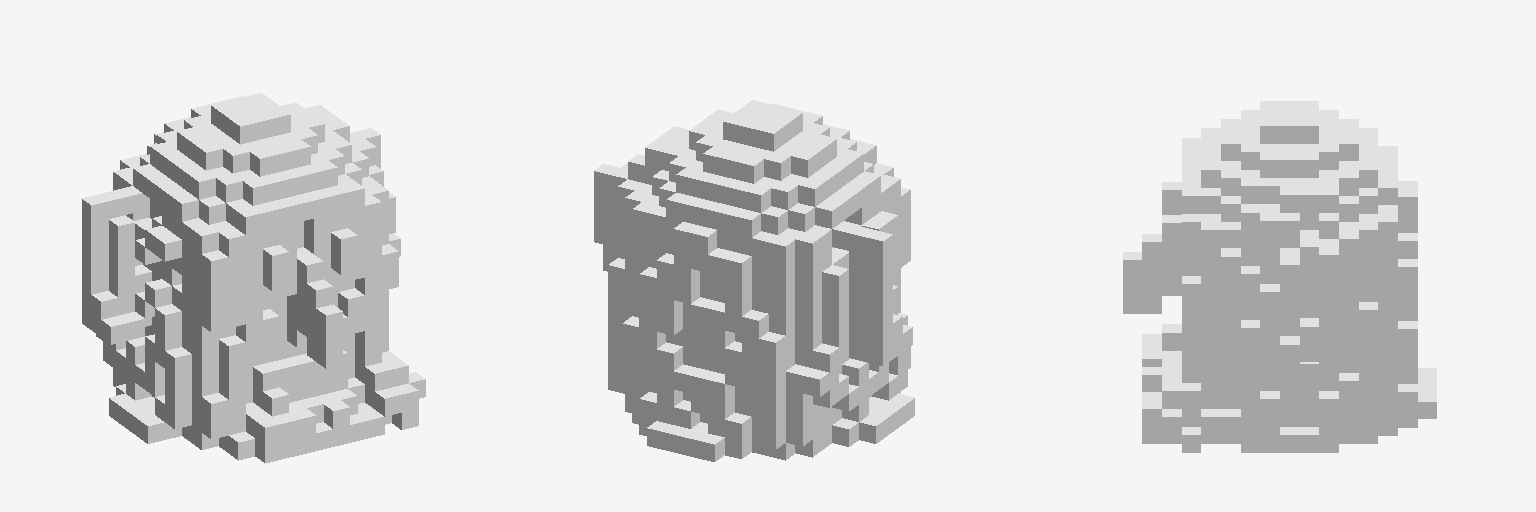
File: ghost_head.vox.obj
The picture shows the model from 3 angles: view 1: azimuth 30°, elevation 25°; view 2: azimuth 150°, elevation 25°; view 3: azimuth 270°, elevation 25°; orthographic projection.
Parts seen in each view (by area): view 1: object 1; view 2: object 1; view 3: object 1.
Boxes of the visible parts, x1,y1,x2,y2 form: object 1: [82, 93, 425, 463]; object 1: [594, 100, 914, 461]; object 1: [1123, 101, 1436, 452].
Bounding box in the file's own units: 1.7 × 1.6 × 1.6.